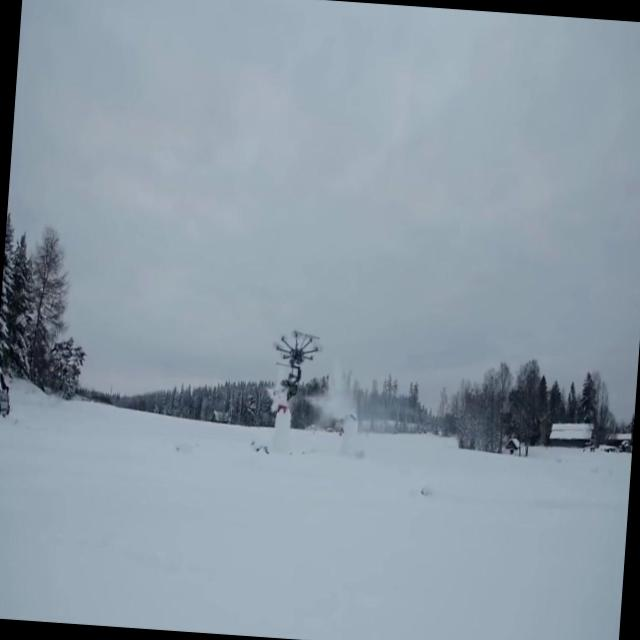drone: (270, 324, 323, 402)
